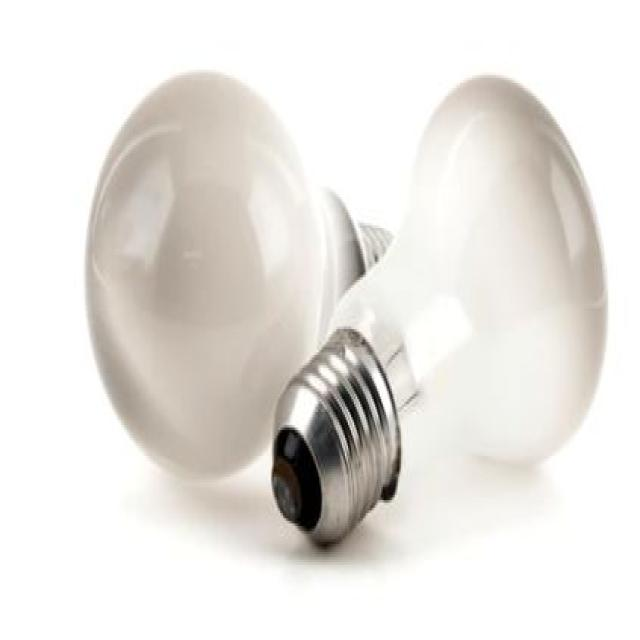electronic: (270, 70, 608, 547), (82, 65, 381, 482)
